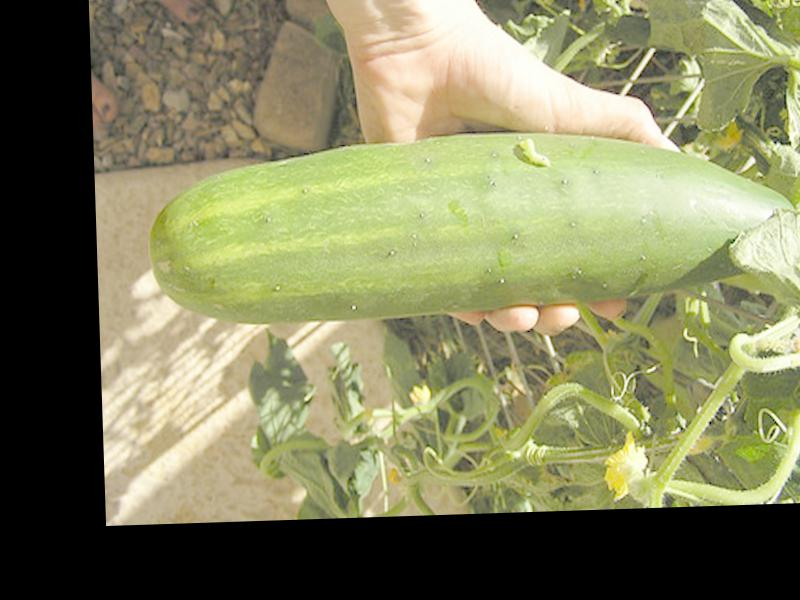Cucumber: (145, 124, 800, 329)
